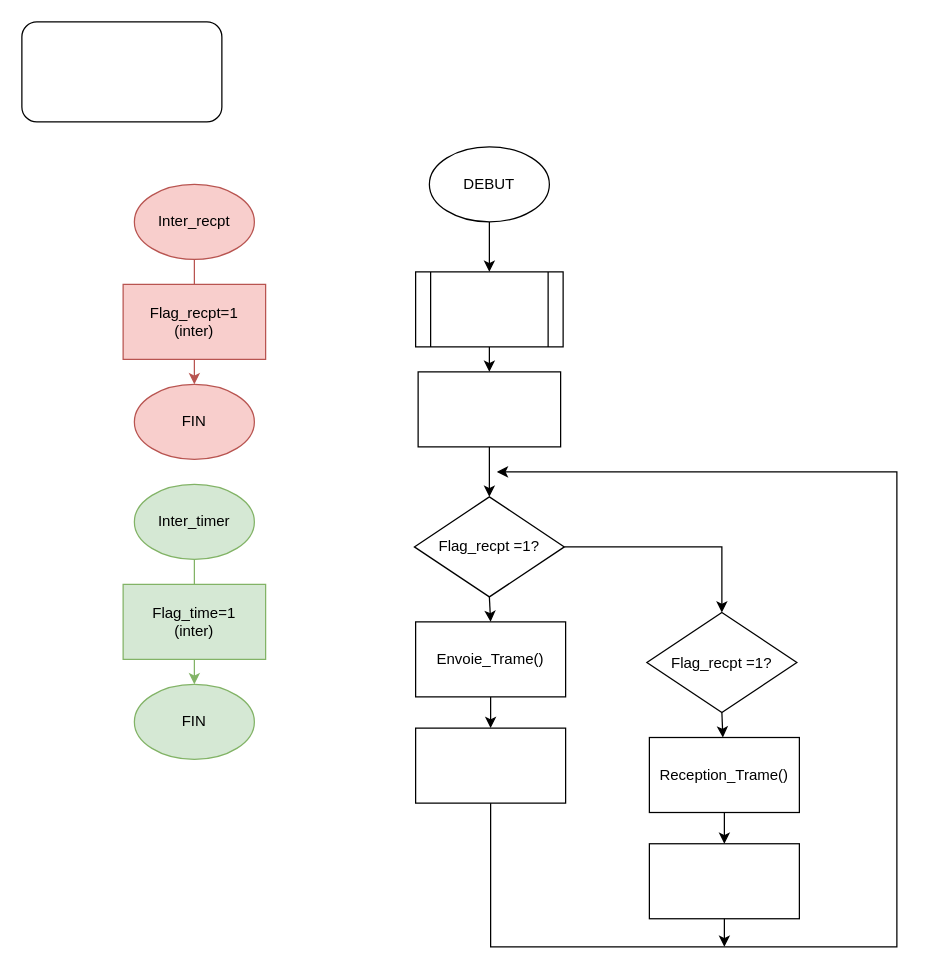
Image size: 929x979. Some labels were removed from this diagram. The box of each missing label's shape, as (x1, y1, x2, y2) in pixels:
Flag_recpt=0: (648, 842, 799, 919)
Flag_recpt=0 (inter): (417, 371, 561, 447)
Flag_time=0: (414, 727, 566, 803)
INIT(): (414, 271, 563, 347)
MASTER Pupitre: (21, 21, 222, 122)
